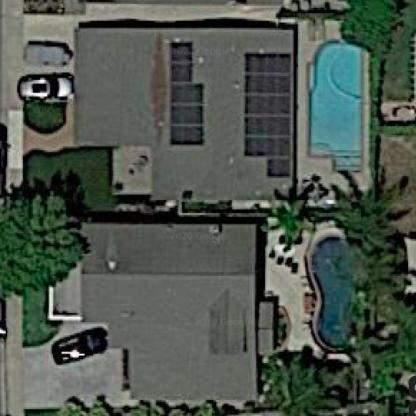car: (47, 322, 113, 367), (15, 70, 80, 105)
solar_panel: (235, 44, 299, 187), (161, 36, 209, 149)
swimming_pool: (298, 26, 379, 182), (297, 220, 371, 351)
